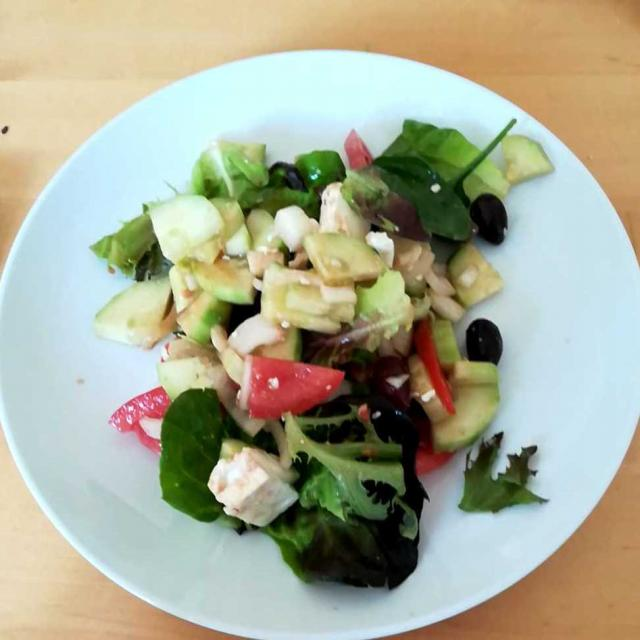greek-salad: (104, 135, 526, 588), (113, 139, 476, 563)
